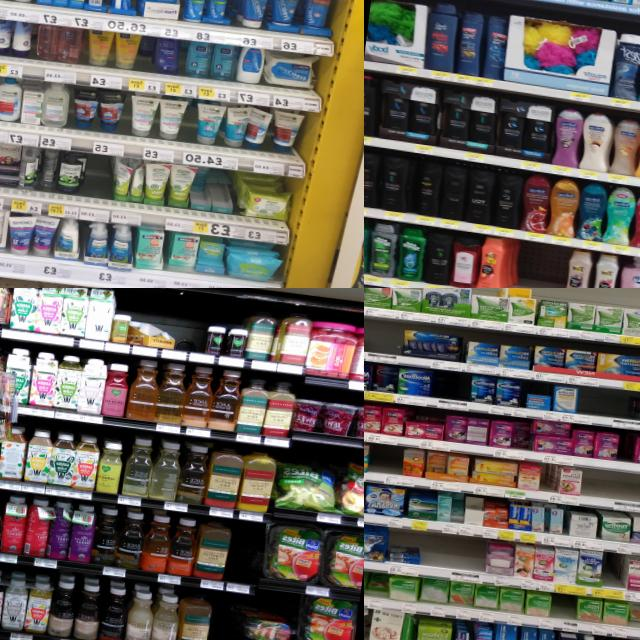100% O.O.S: (225, 526, 253, 593), (179, 313, 207, 362), (206, 603, 235, 640)
100- O.O.S: (420, 532, 484, 584), (579, 467, 640, 513), (575, 386, 634, 428), (516, 242, 569, 288), (80, 154, 111, 221), (364, 318, 402, 364), (431, 370, 472, 410), (368, 444, 403, 484), (548, 593, 576, 631), (600, 551, 622, 599), (615, 429, 634, 471)
